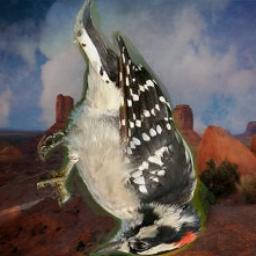Woodpecker: (37, 0, 207, 256)
